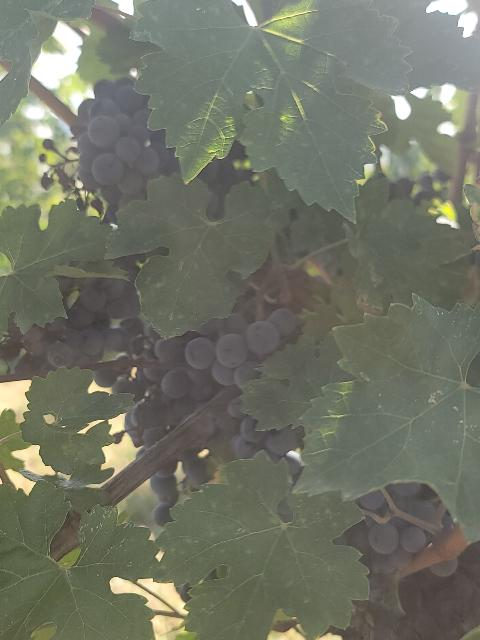grapes: (1, 270, 301, 456), (150, 396, 286, 525), (78, 78, 180, 222)
